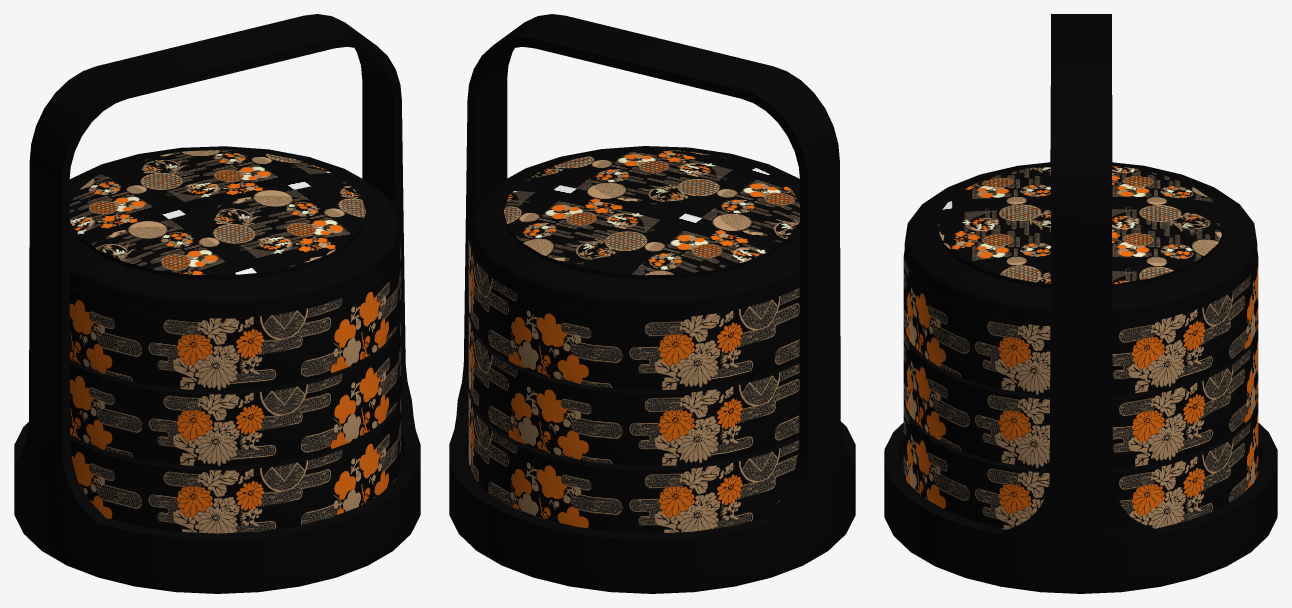
The model's file is bento_box.gltf.
The picture shows the model from 3 angles, left to right: view 1: azimuth 30°, elevation 25°; view 2: azimuth 150°, elevation 25°; view 3: azimuth 270°, elevation 25°; orthographic projection. The views are drawn at different scales.
Parts seen in each view (by area): view 1: handle, cover, bowl_2, bowl_3, bowl_1; view 2: handle, cover, bowl_2, bowl_3, bowl_1; view 3: handle, cover, bowl_2, bowl_3, bowl_1.
Boxes of the visible parts, <box> form: handle: <box>14,14,420,593</box>; cover: <box>69,146,399,317</box>; bowl_2: <box>70,314,401,468</box>; bowl_3: <box>69,237,401,392</box>; bowl_1: <box>70,390,401,533</box>; handle: <box>449,14,855,593</box>; cover: <box>469,146,799,317</box>; bowl_2: <box>468,314,799,468</box>; bowl_3: <box>468,237,799,392</box>; bowl_1: <box>468,390,799,533</box>; handle: <box>884,14,1277,593</box>; cover: <box>904,162,1257,325</box>; bowl_2: <box>903,329,1258,471</box>; bowl_3: <box>903,251,1258,397</box>; bowl_1: <box>903,402,1258,529</box>.
Size of the model in its own units: 1 by 1.23 by 0.9947.
Materials: 3 (2 with a texture image).
